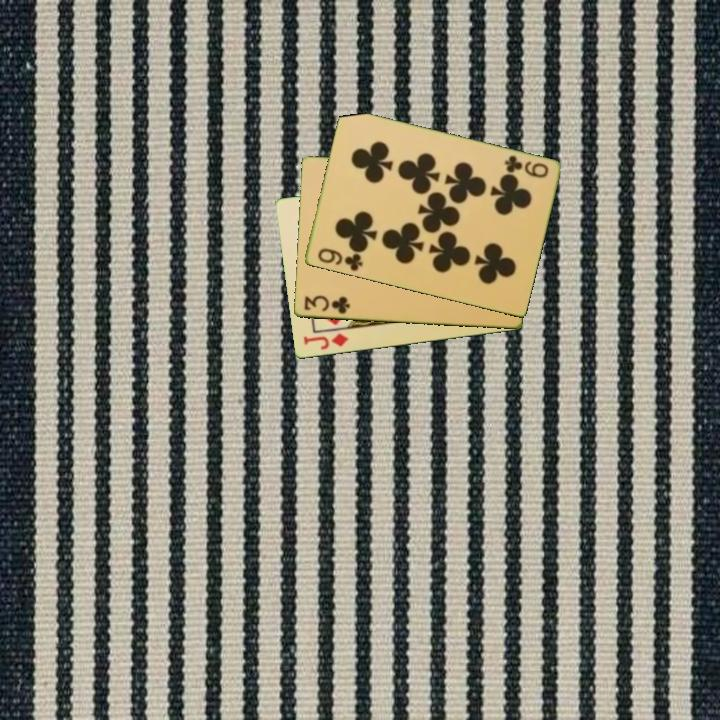3c: (300, 292, 352, 317)
9c: (314, 245, 365, 274), (501, 152, 551, 181)
Jd: (299, 330, 351, 353)
